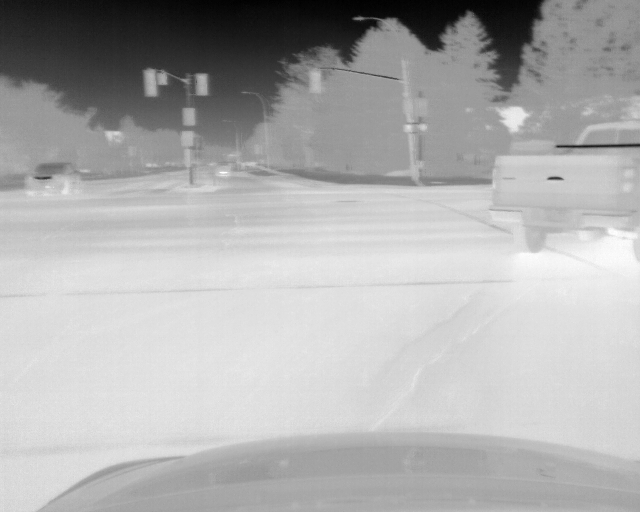car: (486, 121, 640, 262), (24, 162, 81, 200), (213, 161, 230, 177)
